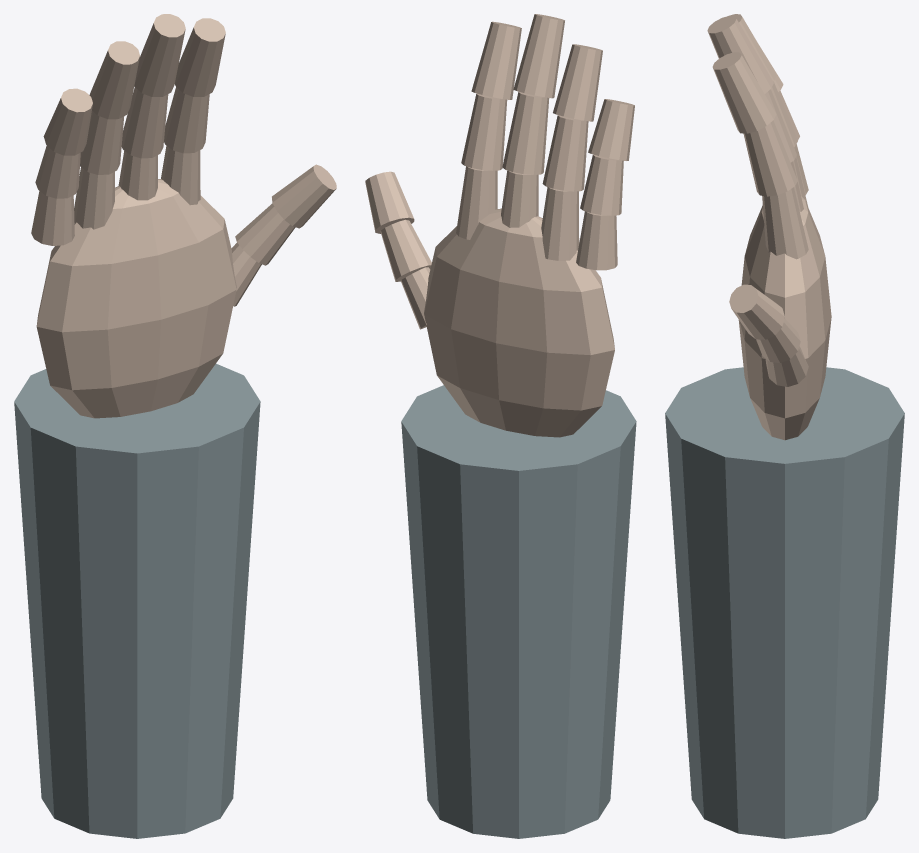
The model's file is HAND-MCS-L.glb.
3 renders of one model, left to right at view 1: azimuth 30°, elevation 25°; view 2: azimuth 150°, elevation 25°; view 3: azimuth 270°, elevation 25°, orthographic. The views are drawn at different scales.
Parts seen in each view (by area): view 1: forearm, palm, finger_2_bone_2, finger_1_bone_2, finger_3_bone_2, finger_2_bone_1, finger_4_bone_2, finger_0_bone_2, finger_1_bone_1, finger_3_bone_1, finger_3_bone_0, finger_0_bone_1 (+5 smaller); view 2: forearm, palm, finger_2_bone_2, finger_2_bone_1, finger_1_bone_2, finger_1_bone_1, finger_3_bone_2, finger_3_bone_1, finger_3_bone_0, finger_4_bone_2, finger_4_bone_1, finger_1_bone_0 (+5 smaller); view 3: forearm, palm, finger_1_bone_2, finger_1_bone_1, finger_1_bone_0, finger_0_bone_2, finger_2_bone_2, finger_0_bone_1, finger_0_bone_0, finger_2_bone_1, finger_3_bone_2.
Boxes of the visible parts, x1,y1,x2,y2 form: forearm: (14, 363, 260, 838); palm: (36, 179, 236, 418); finger_2_bone_2: (134, 14, 185, 96); finger_1_bone_2: (174, 18, 225, 96); finger_3_bone_2: (89, 41, 139, 119); finger_2_bone_1: (121, 87, 168, 158); finger_4_bone_2: (43, 88, 92, 155); finger_0_bone_2: (272, 164, 336, 228); finger_1_bone_1: (164, 87, 209, 153); finger_3_bone_1: (80, 110, 124, 174); finger_3_bone_0: (74, 167, 114, 229); finger_0_bone_1: (235, 203, 295, 265); forearm: (401, 385, 636, 838); palm: (424, 208, 614, 437); finger_2_bone_2: (513, 14, 564, 98); finger_2_bone_1: (502, 91, 549, 174); finger_1_bone_2: (471, 21, 521, 99); finger_1_bone_1: (461, 93, 507, 170); finger_3_bone_2: (553, 44, 602, 121); finger_3_bone_1: (542, 115, 588, 191); finger_3_bone_0: (541, 187, 579, 260); finger_4_bone_2: (588, 99, 634, 160); finger_4_bone_1: (580, 154, 623, 215); finger_1_bone_0: (456, 166, 497, 239); forearm: (665, 367, 904, 838); palm: (738, 196, 831, 440); finger_1_bone_2: (712, 52, 776, 133); finger_1_bone_1: (743, 120, 797, 196); finger_1_bone_0: (762, 187, 808, 259); finger_0_bone_2: (729, 284, 784, 339); finger_2_bone_2: (707, 16, 773, 93); finger_0_bone_1: (756, 318, 800, 362); finger_0_bone_0: (765, 346, 808, 386); finger_2_bone_1: (765, 89, 796, 162); finger_3_bone_2: (729, 14, 776, 81).
Size of the model in its own units: 0.1201 by 0.3234 by 0.09.
